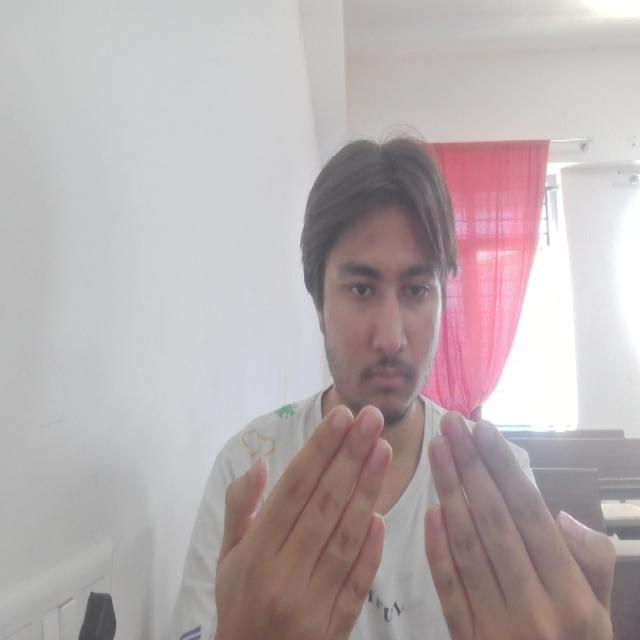thankyou: (215, 402, 617, 640)
